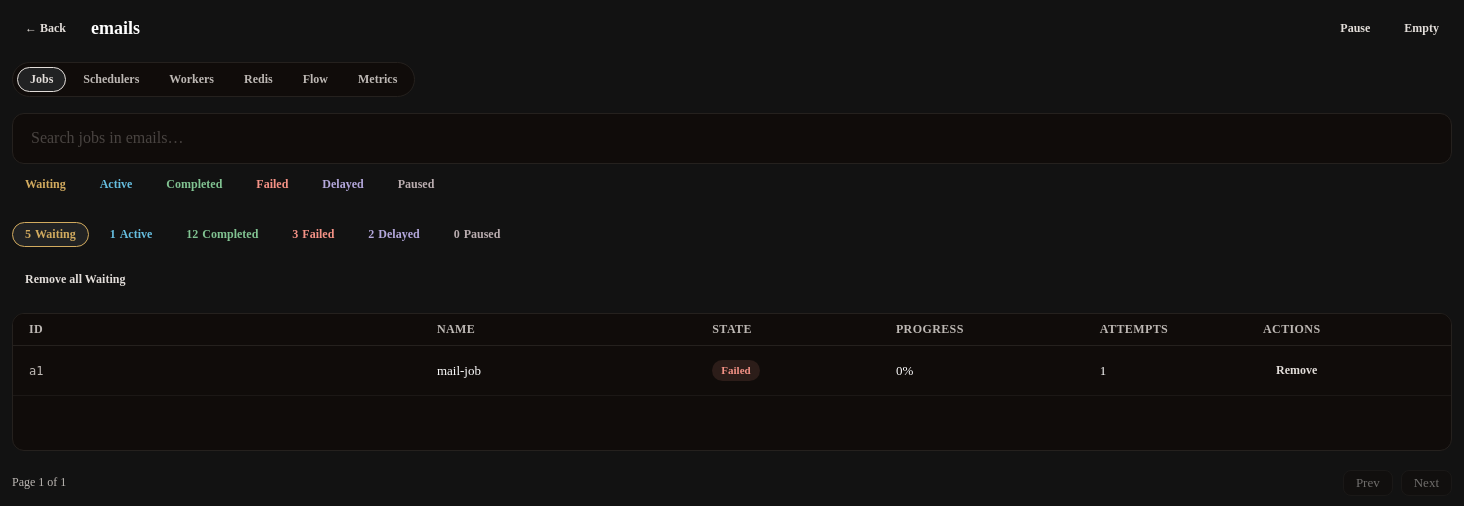
QueueJobs actions › hides the retry controls when the queue disallows retries
This screenshot has width=1464, height=506.
Expected: the text "a1" is shown, [29,364,44,378]
Step 1. Click the button "3 Failed" → (313, 234), box [279,222,347,247]
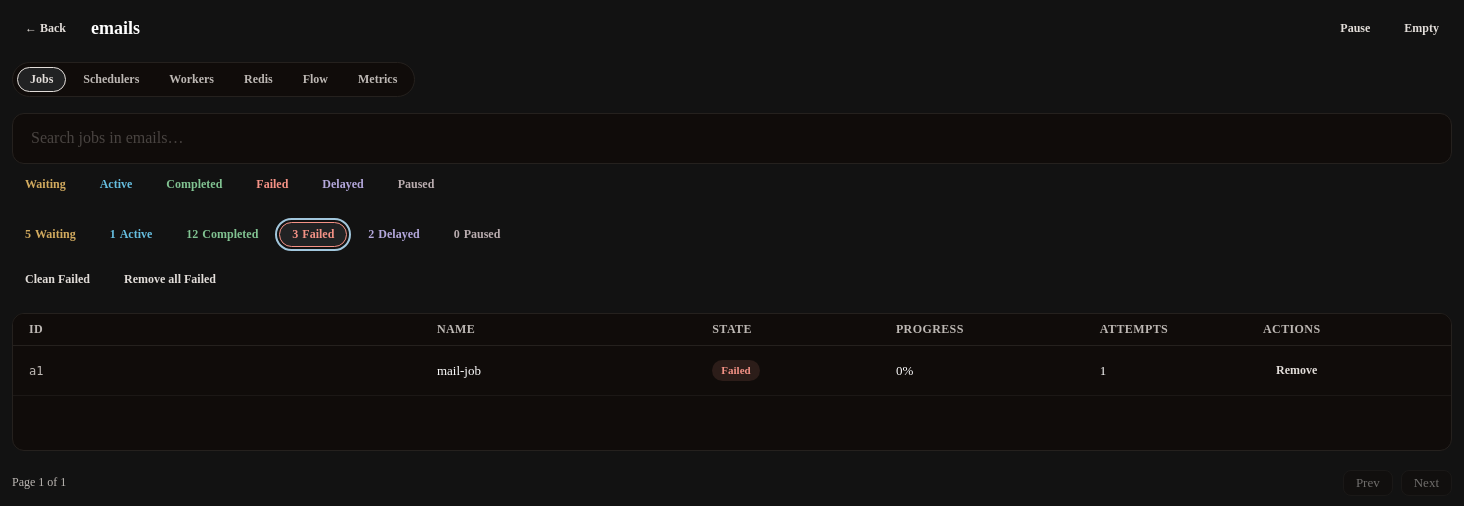
Expected: the button with aria-label "Remove job a1" is shown, [1263,354,1330,387]
Expected: the button "Remove all Failed" is shown, [111,263,229,297]
